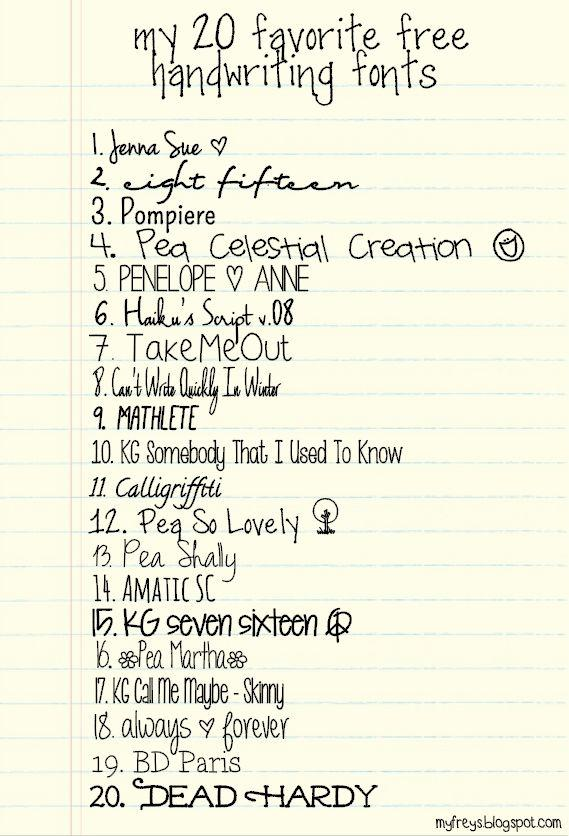text: (129, 10, 473, 65), (146, 48, 441, 109), (84, 226, 526, 266), (89, 158, 363, 207), (90, 436, 405, 474), (84, 776, 380, 814), (88, 365, 284, 418), (93, 294, 296, 345), (91, 709, 293, 758), (85, 505, 302, 546), (89, 605, 321, 642), (85, 329, 296, 369), (90, 671, 286, 713), (90, 260, 312, 295), (89, 538, 241, 585), (91, 636, 253, 674), (89, 126, 231, 168), (90, 194, 218, 236), (90, 748, 242, 783), (85, 474, 225, 511), (90, 571, 219, 608), (90, 401, 205, 433), (431, 810, 565, 836)
